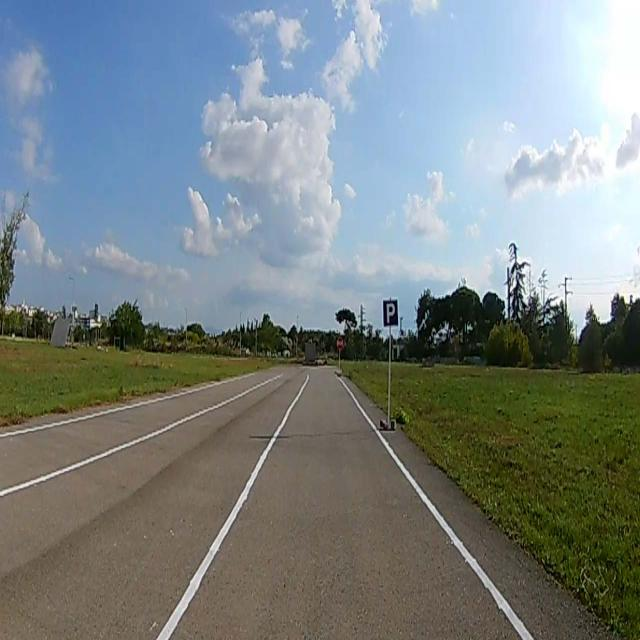park: (383, 300, 398, 326)
